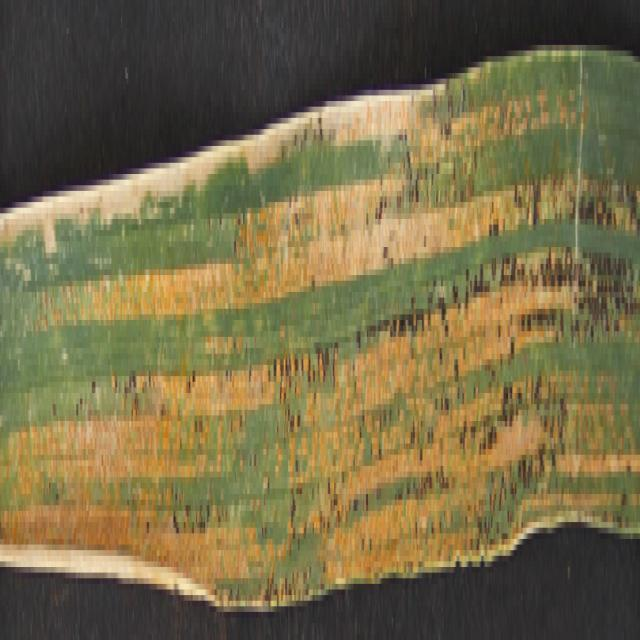leaf rust: (0, 146, 638, 623)
